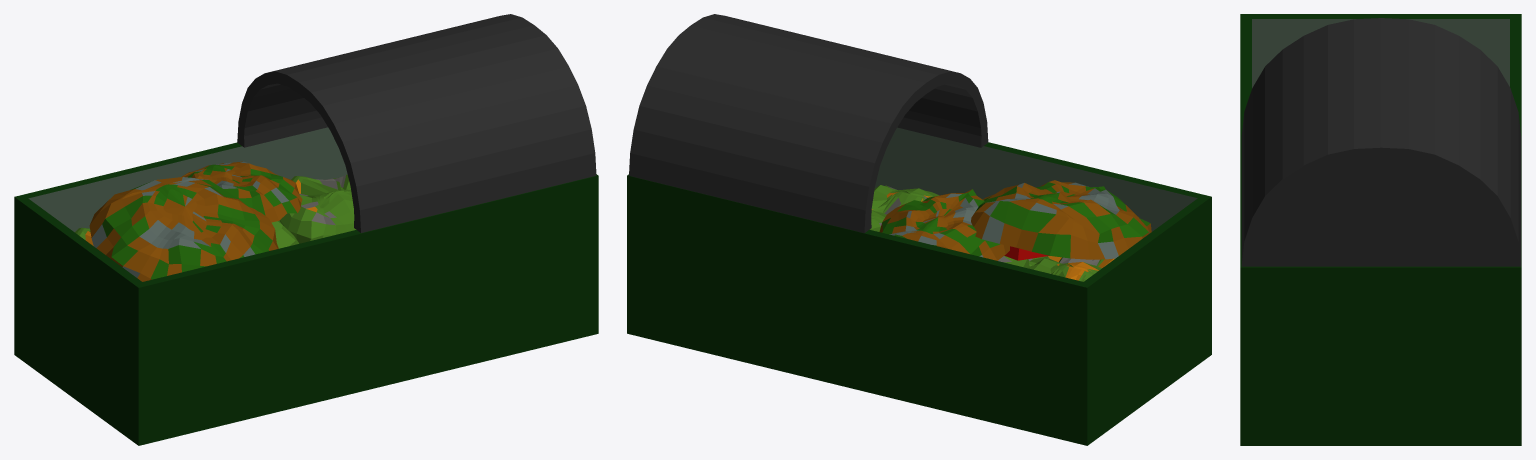
File: Garbage.fbx
3 renders of one model, left to right at view 1: azimuth 30°, elevation 25°; view 2: azimuth 150°, elevation 25°; view 3: azimuth 270°, elevation 25°, orthographic. The views are drawn at different scales.
Visible parts, largest first — view 1: Cube, Cylinder, Cube.003, Cube.001, Cube.004; view 2: Cube, Cylinder, Cube.003, Cube.004, Cube.001; view 3: Cylinder, Cube.
Part boxes in pixels (left/top/right/bottom): Cube: left=14, top=127, right=598, bottom=445; Cylinder: left=237, top=14, right=596, bottom=232; Cube.003: left=89, top=177, right=278, bottom=281; Cube.001: left=75, top=174, right=356, bottom=248; Cube.004: left=182, top=161, right=302, bottom=222; Cube: left=627, top=127, right=1211, bottom=445; Cylinder: left=629, top=14, right=988, bottom=233; Cube.003: left=971, top=180, right=1151, bottom=259; Cube.004: left=879, top=189, right=1009, bottom=260; Cube.001: left=870, top=185, right=1114, bottom=281; Cylinder: left=1241, top=18, right=1521, bottom=266; Cube: left=1240, top=14, right=1521, bottom=445.
Bounding box in the file's own units: 768 × 420 × 360.
